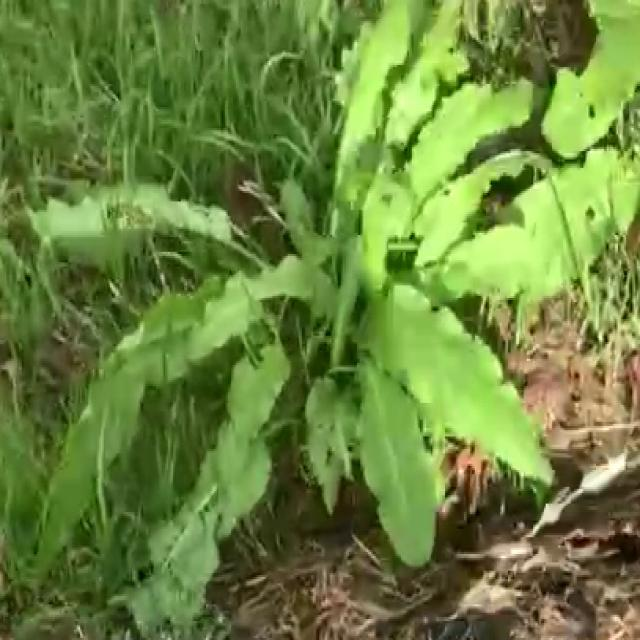organic waste: (30, 34, 640, 598)
